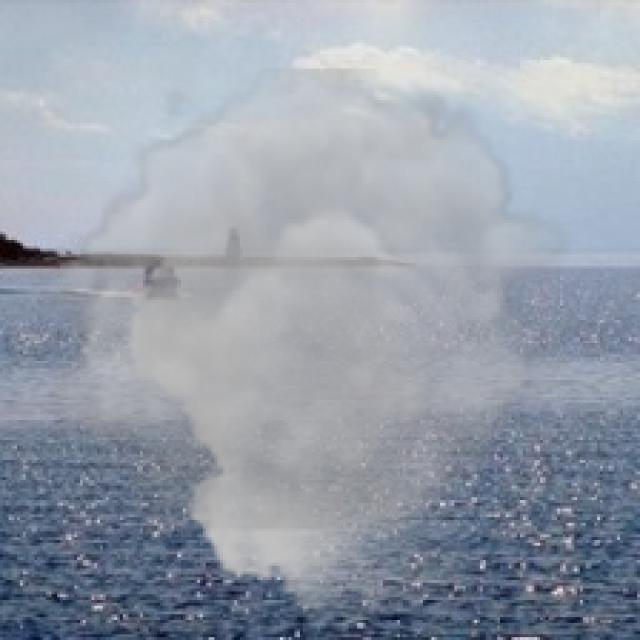smoke: (29, 68, 572, 623)
